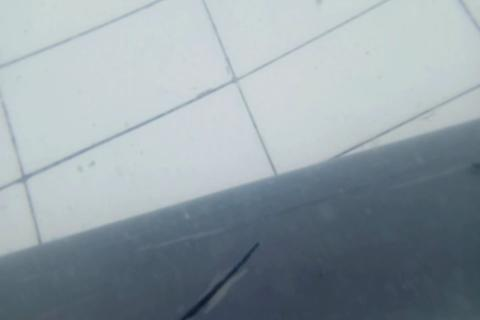keretakan: (177, 241, 259, 319)
